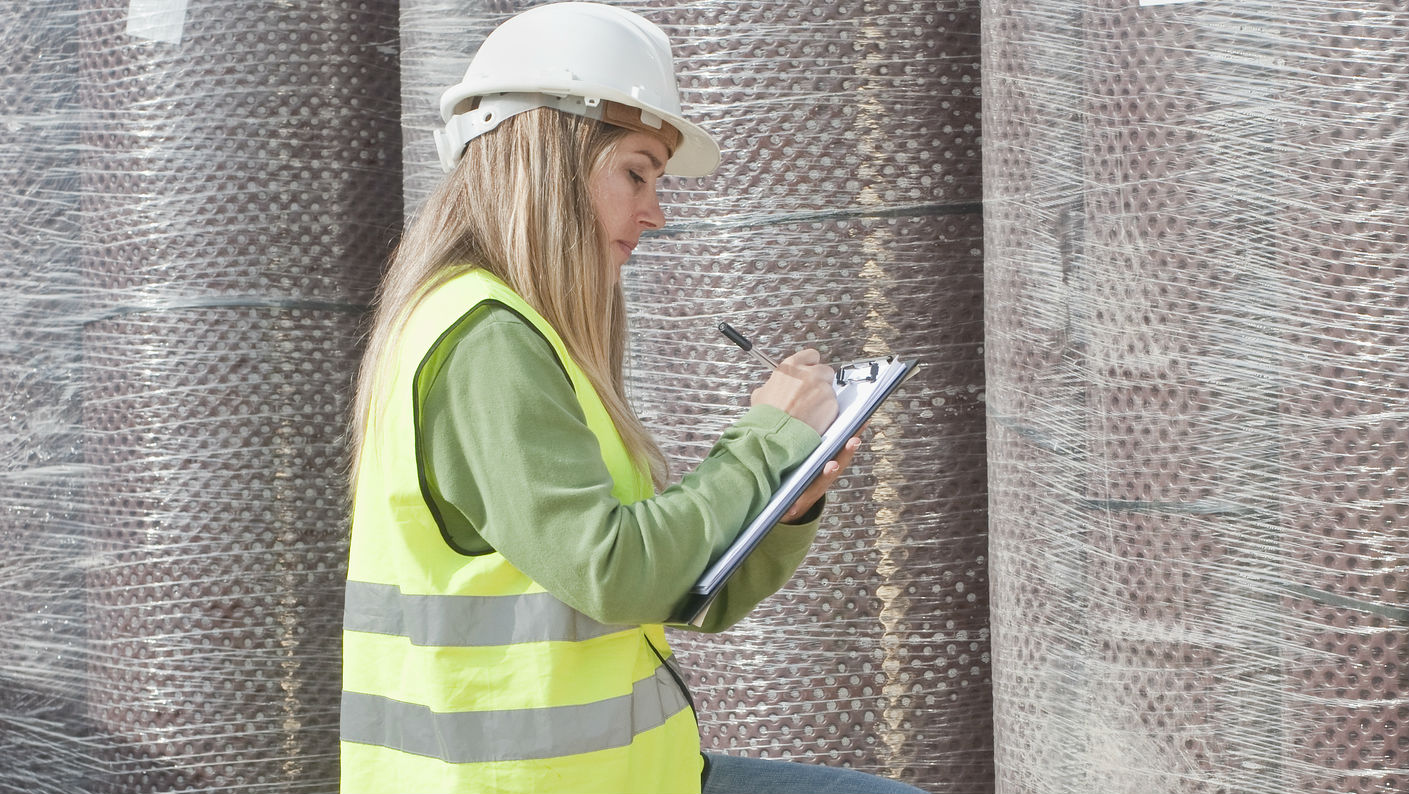hard hat: (431, 1, 724, 180)
high-vis: (338, 263, 704, 794)
